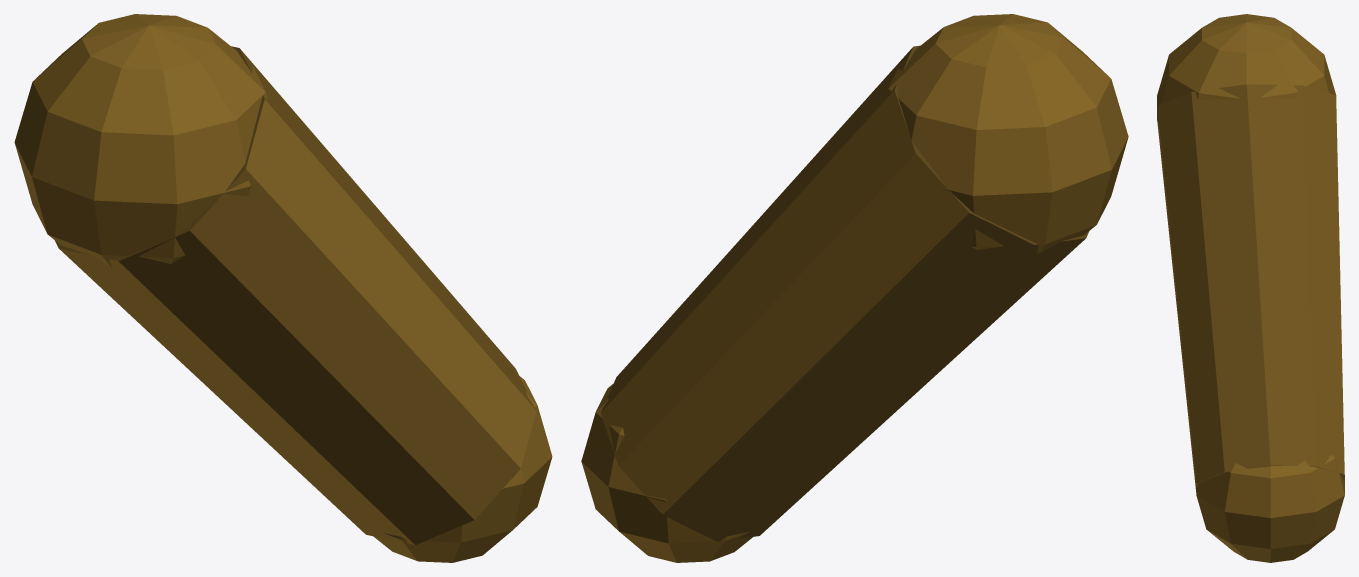
The model's file is SM_triceratops_fore_l_Lower.fbx.
The picture shows the model from 3 angles, left to right: view 1: azimuth 30°, elevation 25°; view 2: azimuth 150°, elevation 25°; view 3: azimuth 270°, elevation 25°; orthographic projection. The views are drawn at different scales.
Parts seen in each view (by area): view 1: SM_triceratops_fore_l_Lower export; view 2: SM_triceratops_fore_l_Lower export; view 3: SM_triceratops_fore_l_Lower export.
Part boxes in pixels (x1,y1,x2,y2): SM_triceratops_fore_l_Lower export: [14, 14, 552, 562]; SM_triceratops_fore_l_Lower export: [581, 14, 1128, 562]; SM_triceratops_fore_l_Lower export: [1157, 14, 1344, 562].
Size of the model in its own units: 156 by 69.76 by 176.
